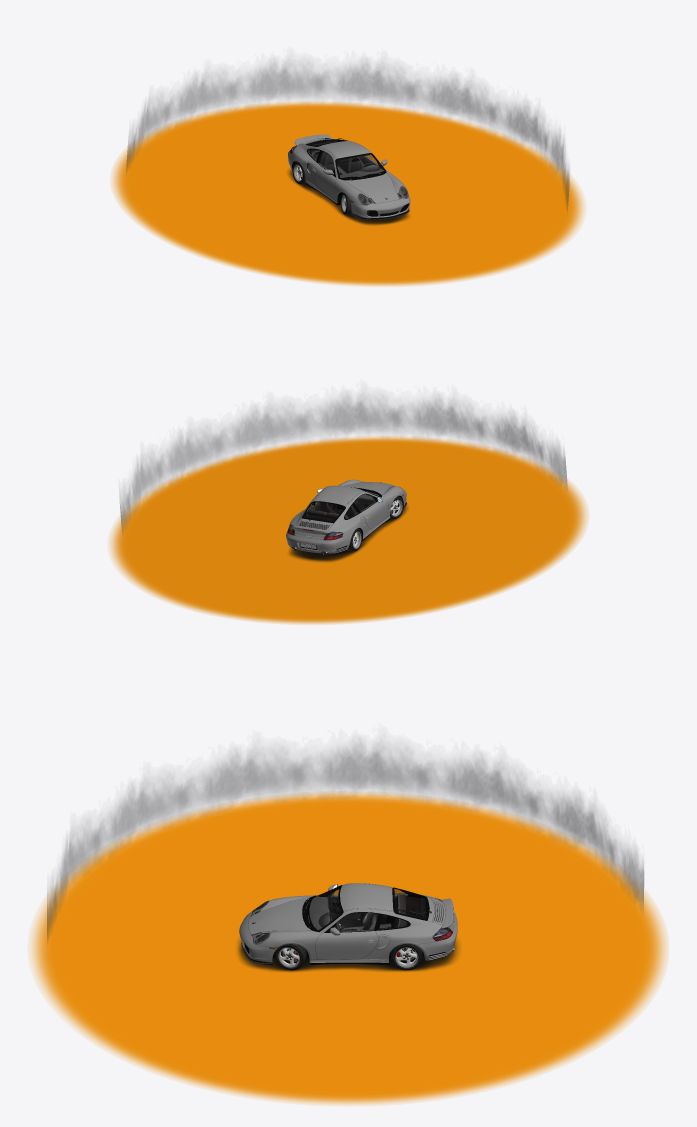
Rendered from porsche_911_turbo_996.glb.
3 renders of one model, top to bottom at view 1: azimuth 30°, elevation 25°; view 2: azimuth 150°, elevation 25°; view 3: azimuth 270°, elevation 25°, orthographic. The views are drawn at different scales.
Visible parts, largest first — view 1: Object_24, Object_6, Object_3, Object_31, Object_54, Object_12, Object_8; view 2: Object_24, Object_6, Object_3, Object_31, Object_8, Object_55, Object_12; view 3: Object_24, Object_6, Object_3, Object_31, Object_54, Object_8, Object_12, Object_55.
Boxes of the visible parts, x1,y1,x2,y2 form: Object_24: (111,102,584,286); Object_6: (126,61,569,210); Object_3: (288,134,410,218); Object_31: (307,139,384,177); Object_54: (308,149,383,177); Object_12: (298,138,408,215); Object_8: (288,169,408,224); Object_24: (109,436,587,624); Object_6: (120,395,567,531); Object_3: (286,479,406,553); Object_31: (303,491,379,521); Object_8: (289,505,407,561); Object_55: (304,503,343,521); Object_12: (300,482,403,549); Object_24: (30,792,667,1104); Object_6: (47,742,644,939); Object_3: (239,883,457,962); Object_31: (309,886,427,931); Object_54: (310,887,407,931); Object_8: (238,939,458,971); Object_12: (244,884,453,963); Object_55: (395,889,426,918).
Size of what is drawn, in the model's own units: 15.85 by 4.35 by 15.84.
53 materials, 35 textured.
